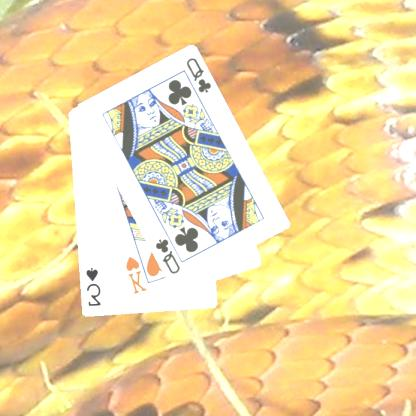3S: (84, 265, 104, 308)
KH: (124, 254, 150, 296)
QC: (184, 55, 214, 95), (154, 236, 183, 276)
